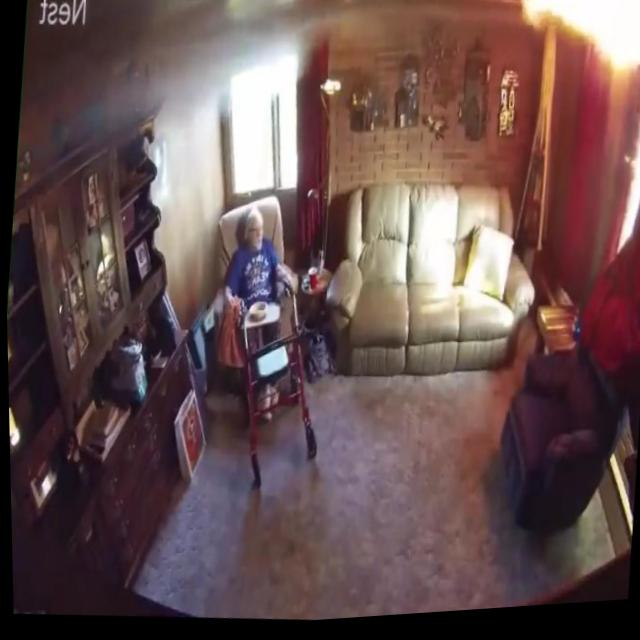fire: (511, 0, 640, 88)
